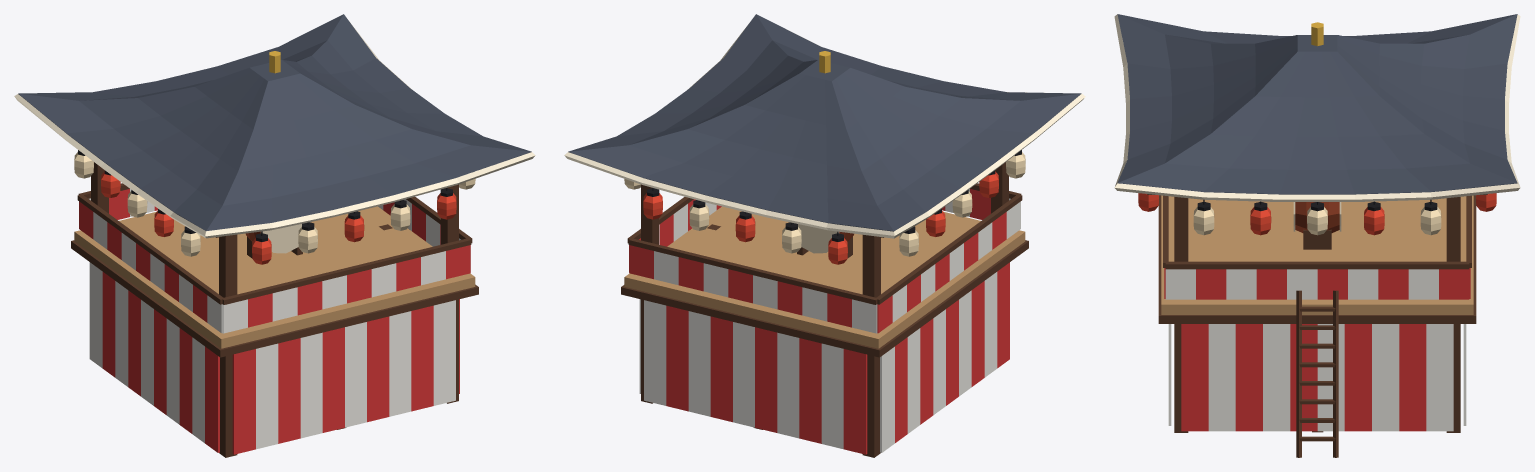
File: yagura.glb
The picture shows the model from 3 angles, left to right: view 1: azimuth 30°, elevation 25°; view 2: azimuth 150°, elevation 25°; view 3: azimuth 270°, elevation 25°; orthographic projection. The views are drawn at different scales.
Visible parts, largest first — view 1: Yagura_Roof, Yagura_KohakuR, Yagura_KohakuW, Yagura_Deck, Yagura_Posts, Yagura_RoofEdge, Yagura_LanternW, Yagura_LanternR, Yagura_DrumHead, Yagura_Caps; view 2: Yagura_Roof, Yagura_KohakuR, Yagura_KohakuW, Yagura_Deck, Yagura_Posts, Yagura_RoofEdge, Yagura_LanternW, Yagura_LanternR, Yagura_DrumHead, Yagura_Caps; view 3: Yagura_Roof, Yagura_KohakuW, Yagura_KohakuR, Yagura_Deck, Yagura_Posts, Yagura_RoofEdge, Yagura_LanternR, Yagura_LanternW, Yagura_DrumBody, Yagura_Caps.
Part boxes in pixels (x1,y1,x2,y2): Yagura_Roof: (18, 14, 531, 231); Yagura_KohakuR: (79, 189, 470, 454); Yagura_KohakuW: (89, 189, 470, 449); Yagura_Deck: (74, 206, 475, 348); Yagura_Posts: (71, 162, 478, 457); Yagura_RoofEdge: (14, 21, 535, 238); Yagura_LanternW: (74, 152, 475, 256); Yagura_LanternR: (101, 171, 456, 264); Yagura_DrumHead: (260, 222, 310, 253); Yagura_Caps: (78, 150, 452, 241); Yagura_Roof: (568, 14, 1081, 231); Yagura_KohakuR: (629, 189, 1009, 454); Yagura_KohakuW: (639, 189, 1020, 452); Yagura_Deck: (624, 206, 1025, 348); Yagura_Posts: (621, 162, 1028, 457); Yagura_RoofEdge: (564, 25, 1085, 238); Yagura_LanternW: (624, 152, 1025, 256); Yagura_LanternR: (643, 171, 998, 264); Yagura_DrumHead: (798, 224, 839, 253); Yagura_Caps: (647, 150, 1021, 241); Yagura_Roof: (1117, 14, 1517, 194); Yagura_KohakuW: (1165, 269, 1466, 431); Yagura_KohakuR: (1164, 268, 1470, 431); Yagura_Deck: (1161, 195, 1473, 314); Yagura_Posts: (1147, 194, 1487, 457); Yagura_RoofEdge: (1114, 14, 1520, 201); Yagura_LanternR: (1138, 193, 1496, 235); Yagura_LanternW: (1193, 207, 1441, 235); Yagura_DrumBody: (1295, 202, 1339, 232); Yagura_Caps: (1197, 199, 1437, 211).
Size of the model in its own units: 40.19 by 37.88 by 40.07.
